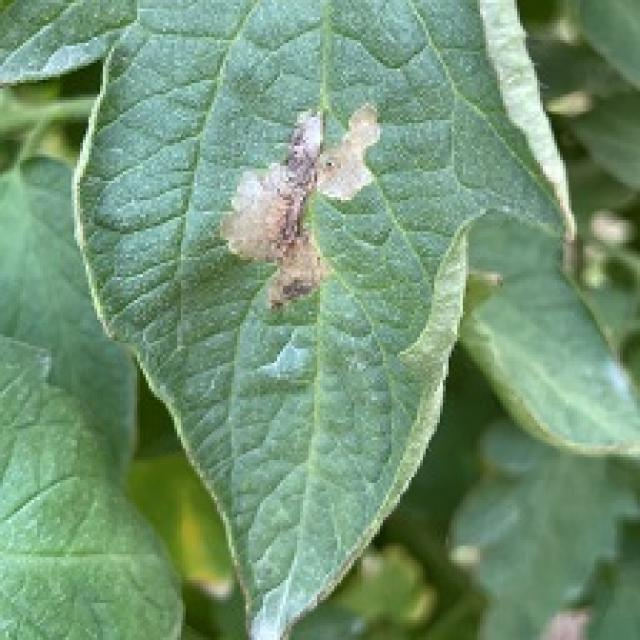Tuta absoluta: (196, 69, 397, 322)
